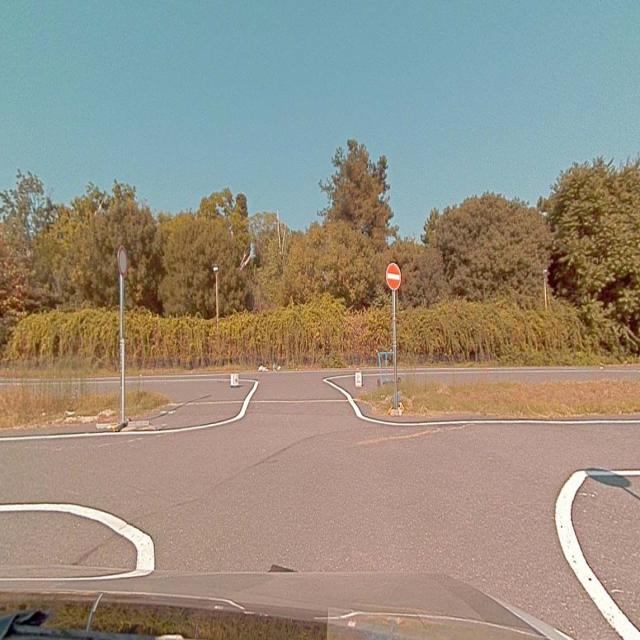girisyok: (386, 262, 401, 287)
